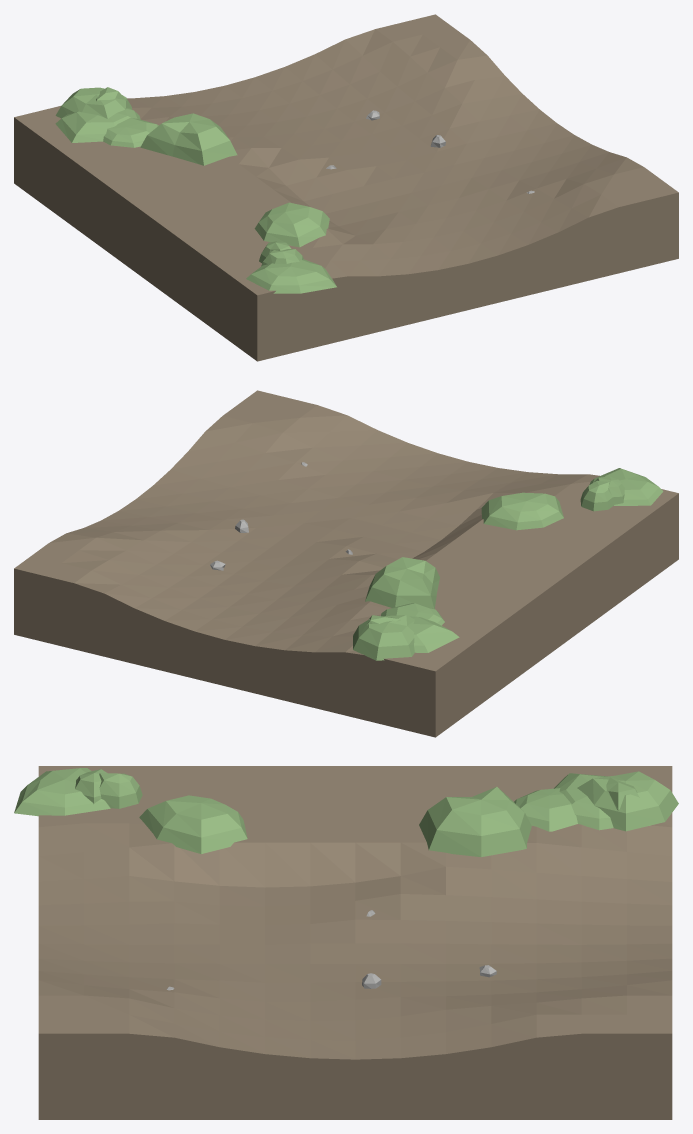
Rendered from dense-temperate-forest-flora-path-fork-tile-5a26e50d__28429.glb.
The picture shows the model from 3 angles, top to bottom: view 1: azimuth 30°, elevation 25°; view 2: azimuth 150°, elevation 25°; view 3: azimuth 270°, elevation 25°; orthographic projection. The views are drawn at different scales.
Visible parts, largest first — view 1: path-fork-tile; view 2: path-fork-tile; view 3: path-fork-tile.
Boxes of the visible parts, bbox=[...] form: path-fork-tile: bbox=[14, 14, 678, 361]; path-fork-tile: bbox=[14, 390, 678, 737]; path-fork-tile: bbox=[14, 766, 678, 1119].
Size of the model in its own units: 2 by 0.409 by 2.1.
